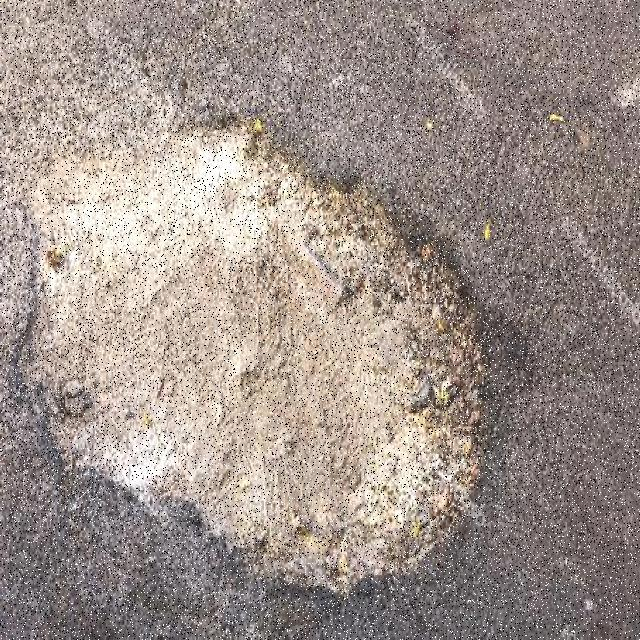Pothole: (15, 86, 486, 595)
